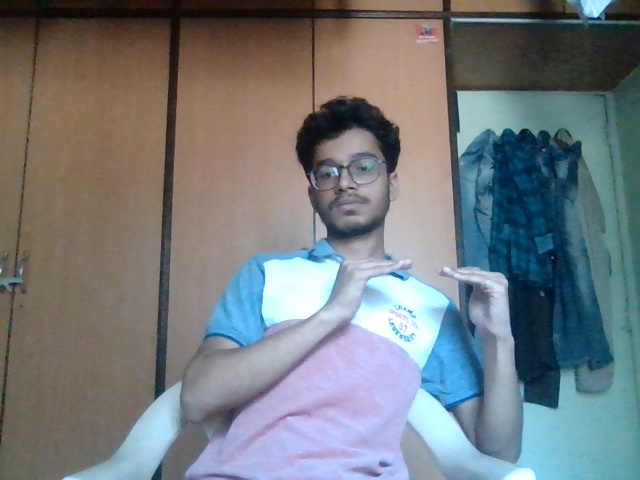afternoon: (309, 245, 527, 373)
